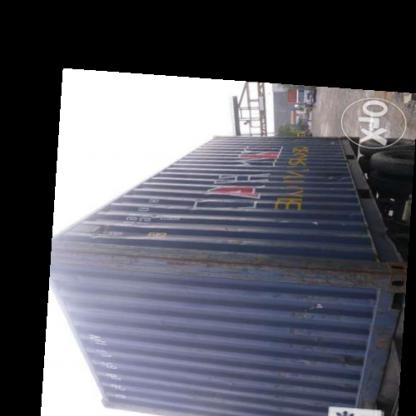Damage: (53, 230, 388, 291)
